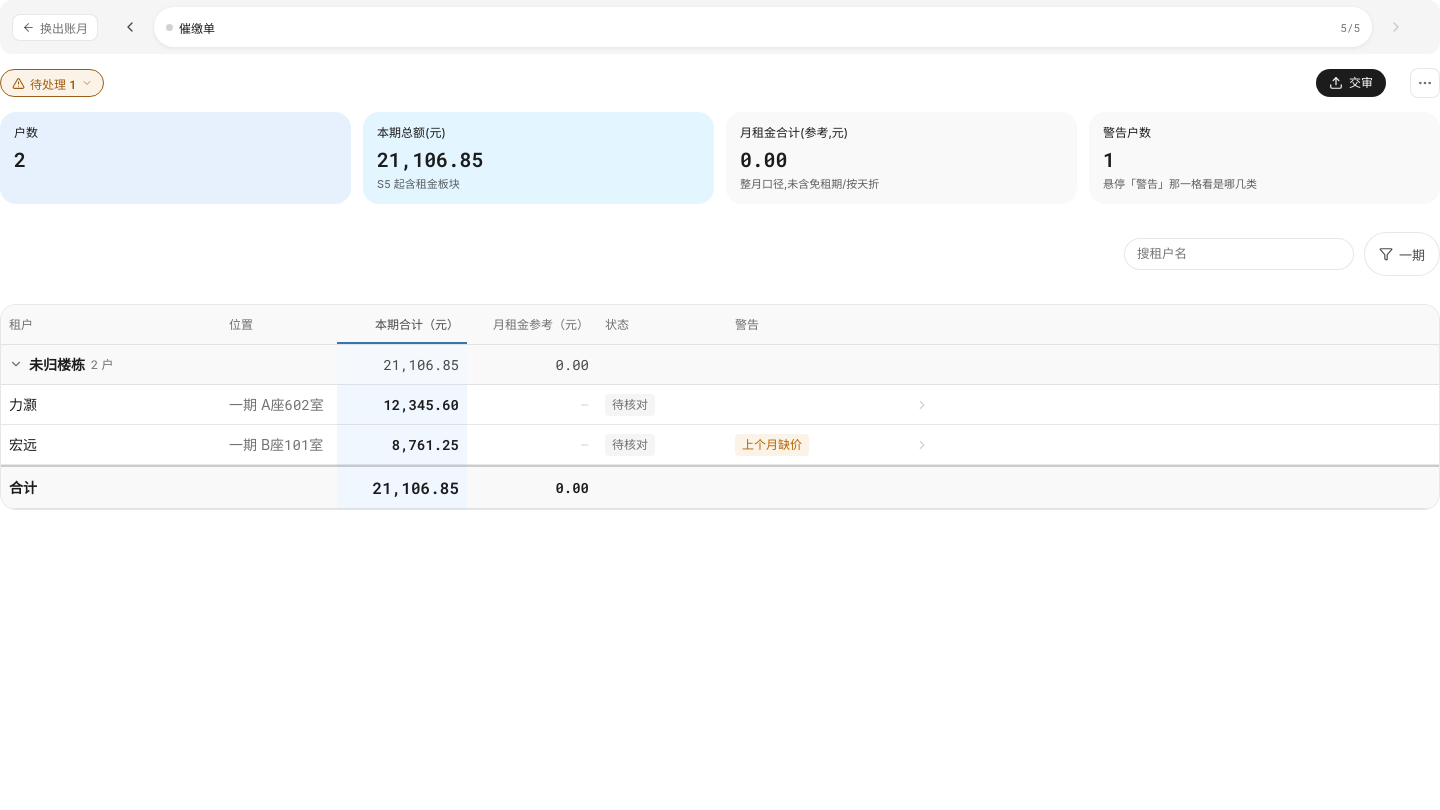
Test: §5.10 筛选行 —— >2 件控件就收:搜索留外面,选择器进面板 › S 档:面板里一件不少 —— 期段控 3 颗 + 仅看有警告
The image size is (1440, 810).
Click the button with class "bn-fbtn": [1402, 254] box [1364,232,1439,276]
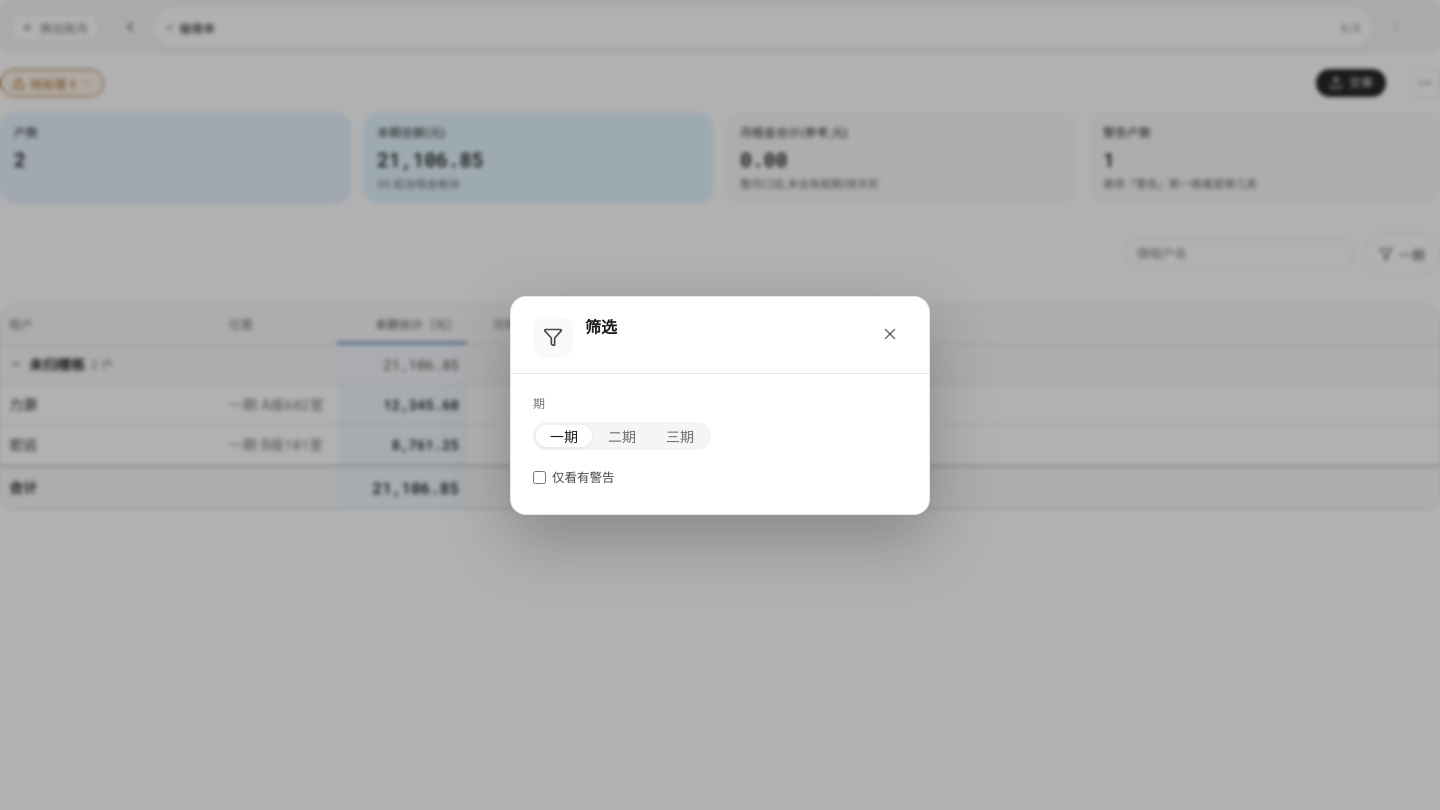
Now the element with class "bn-fpanel" is shown, box [533,396,711,484]
Now the elements with class "ds-seg-item" read "一期", "二期", "三期", in this order, box [536,424,592,446]; [594,424,650,446]; [652,424,708,446]
Now the text "仅看有警告" is shown, box [533,470,614,484]
